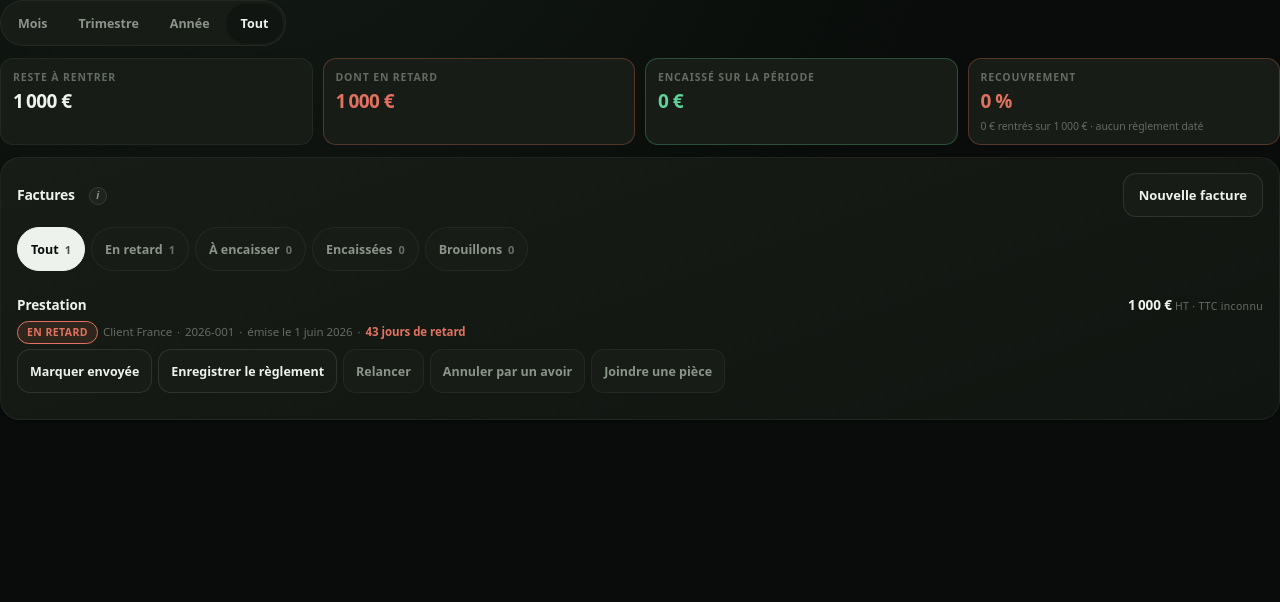
relancer une facture en retard › chiffre les pénalités dès que le taux est donné
This screenshot has width=1280, height=602.
Click the button "Relancer".
click(383, 371)  # box [343,349,424,393]
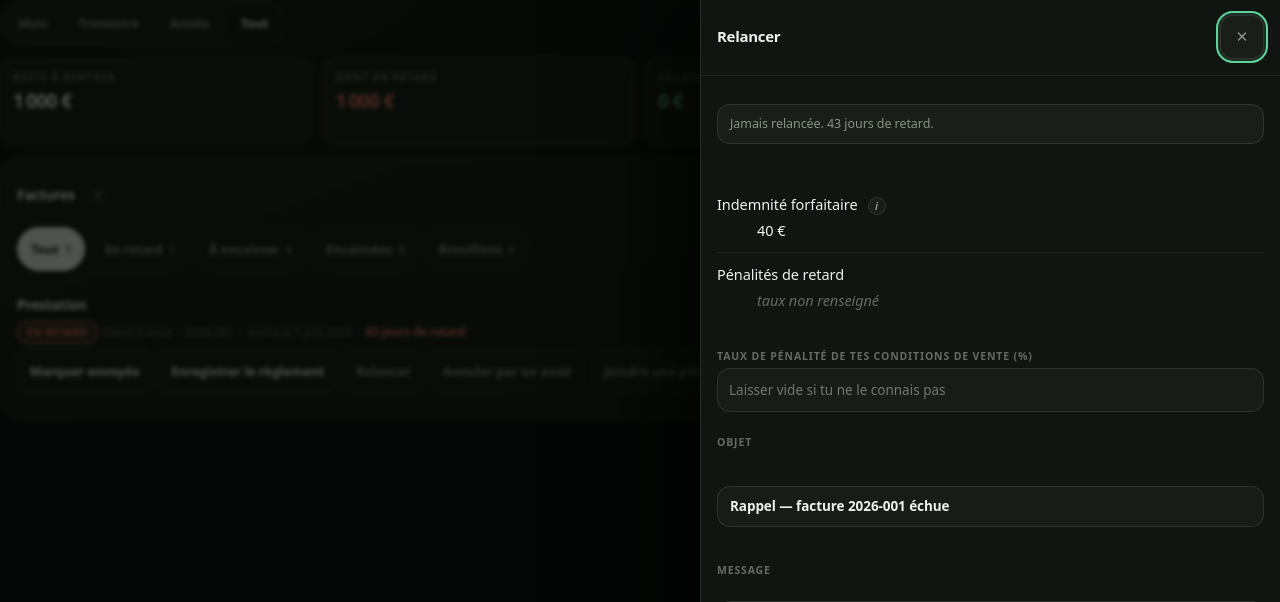
Type "12" into the field labelled "Taux de pénalité de tes conditions de vente (%)".
click(990, 390); type("12")  # box [717,368,1264,412]
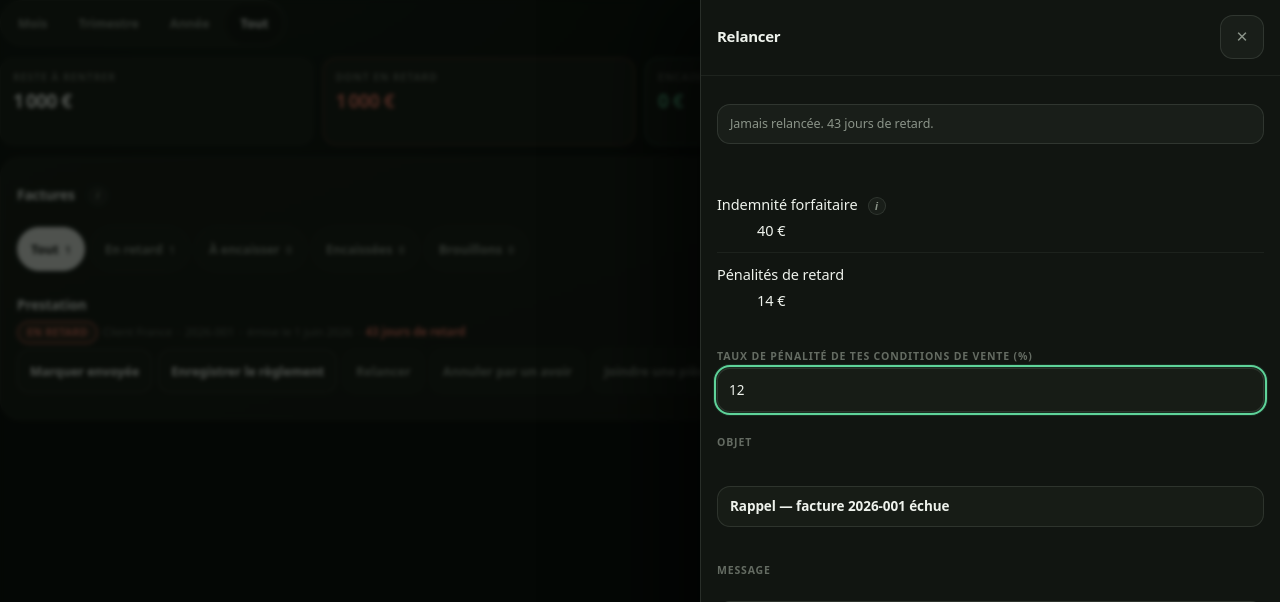
Expected: the text "taux non renseigné" is gone
